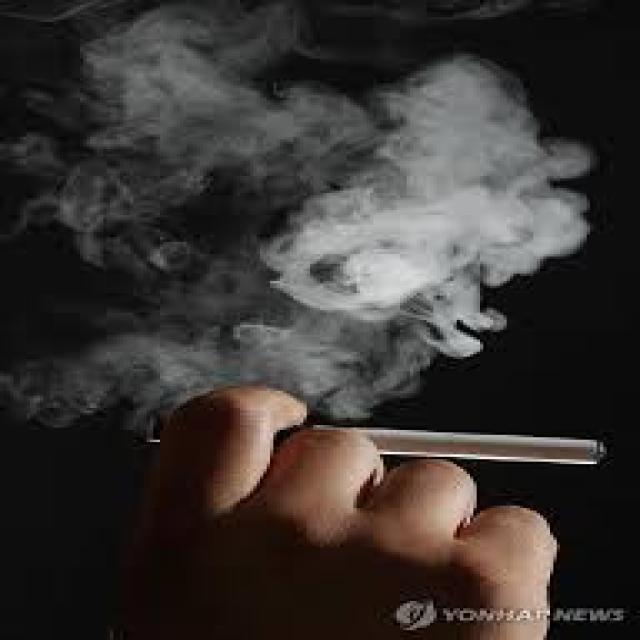rokok: (302, 412, 618, 476)
